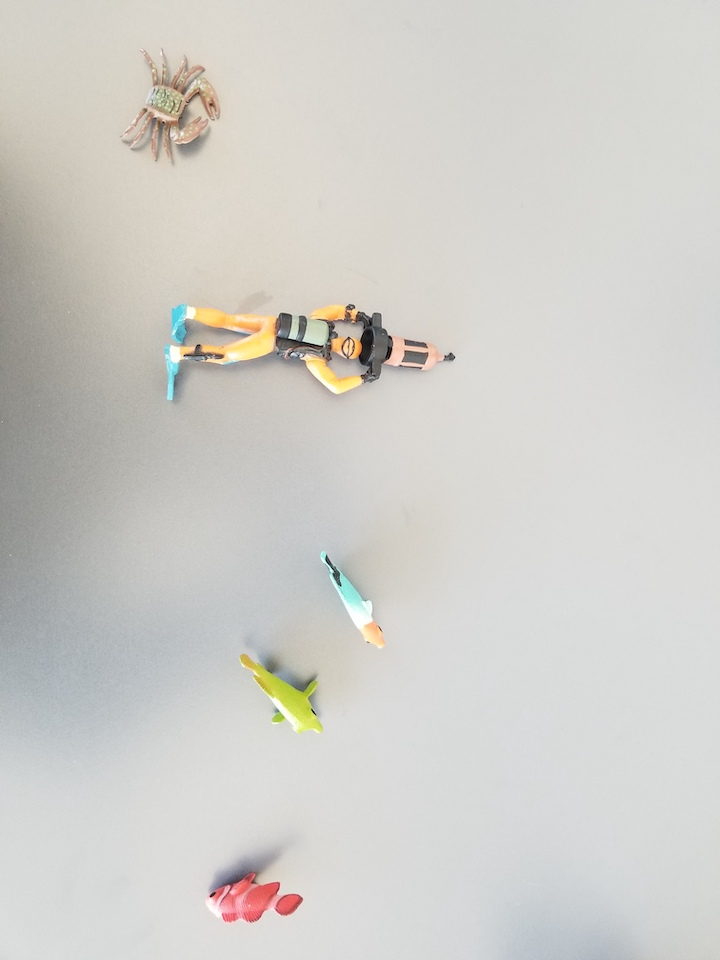crab: (122, 46, 225, 167)
diver: (162, 293, 460, 406)
fish: (232, 650, 328, 739), (313, 551, 395, 652), (205, 873, 307, 927)
